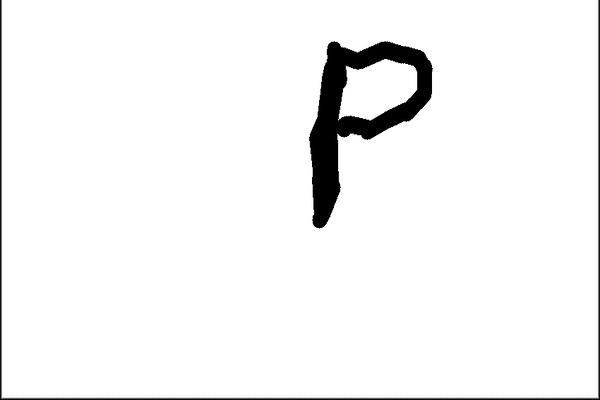P: (299, 30, 444, 235)
